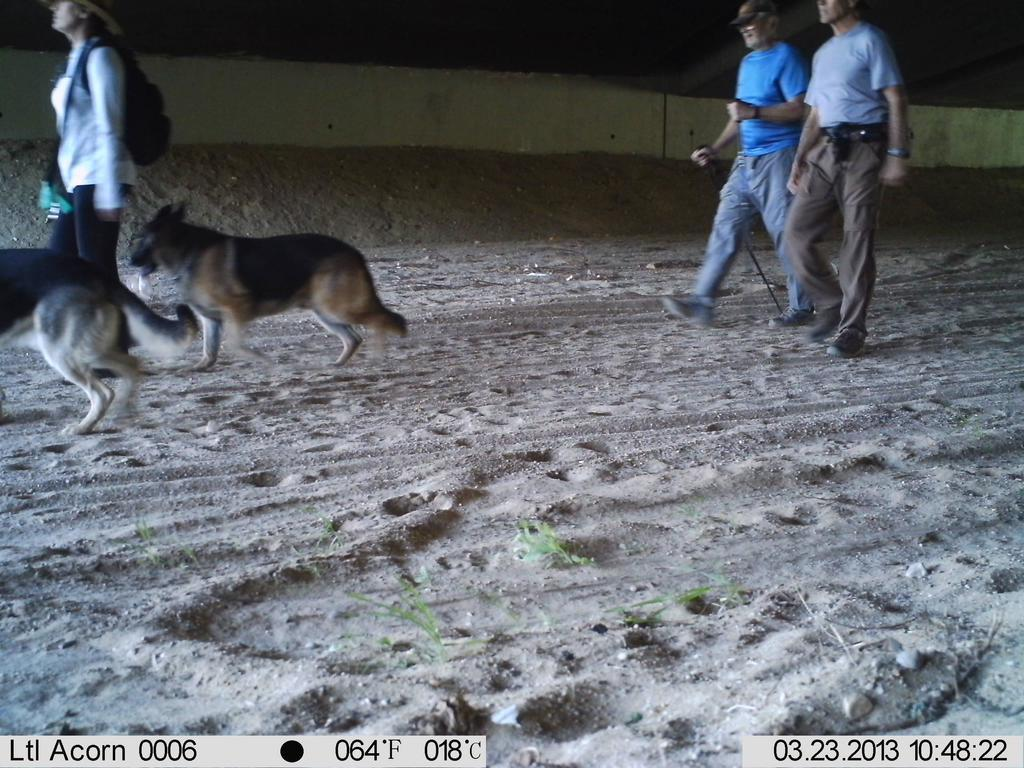dog: (154, 195, 411, 375), (1, 246, 182, 424)
